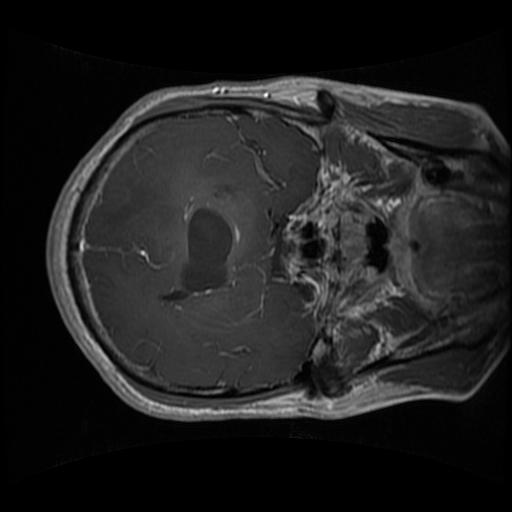glioma: (149, 208, 232, 306)
